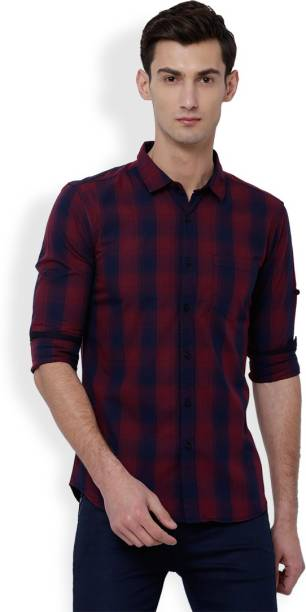Shirt: (26, 136, 305, 527)
